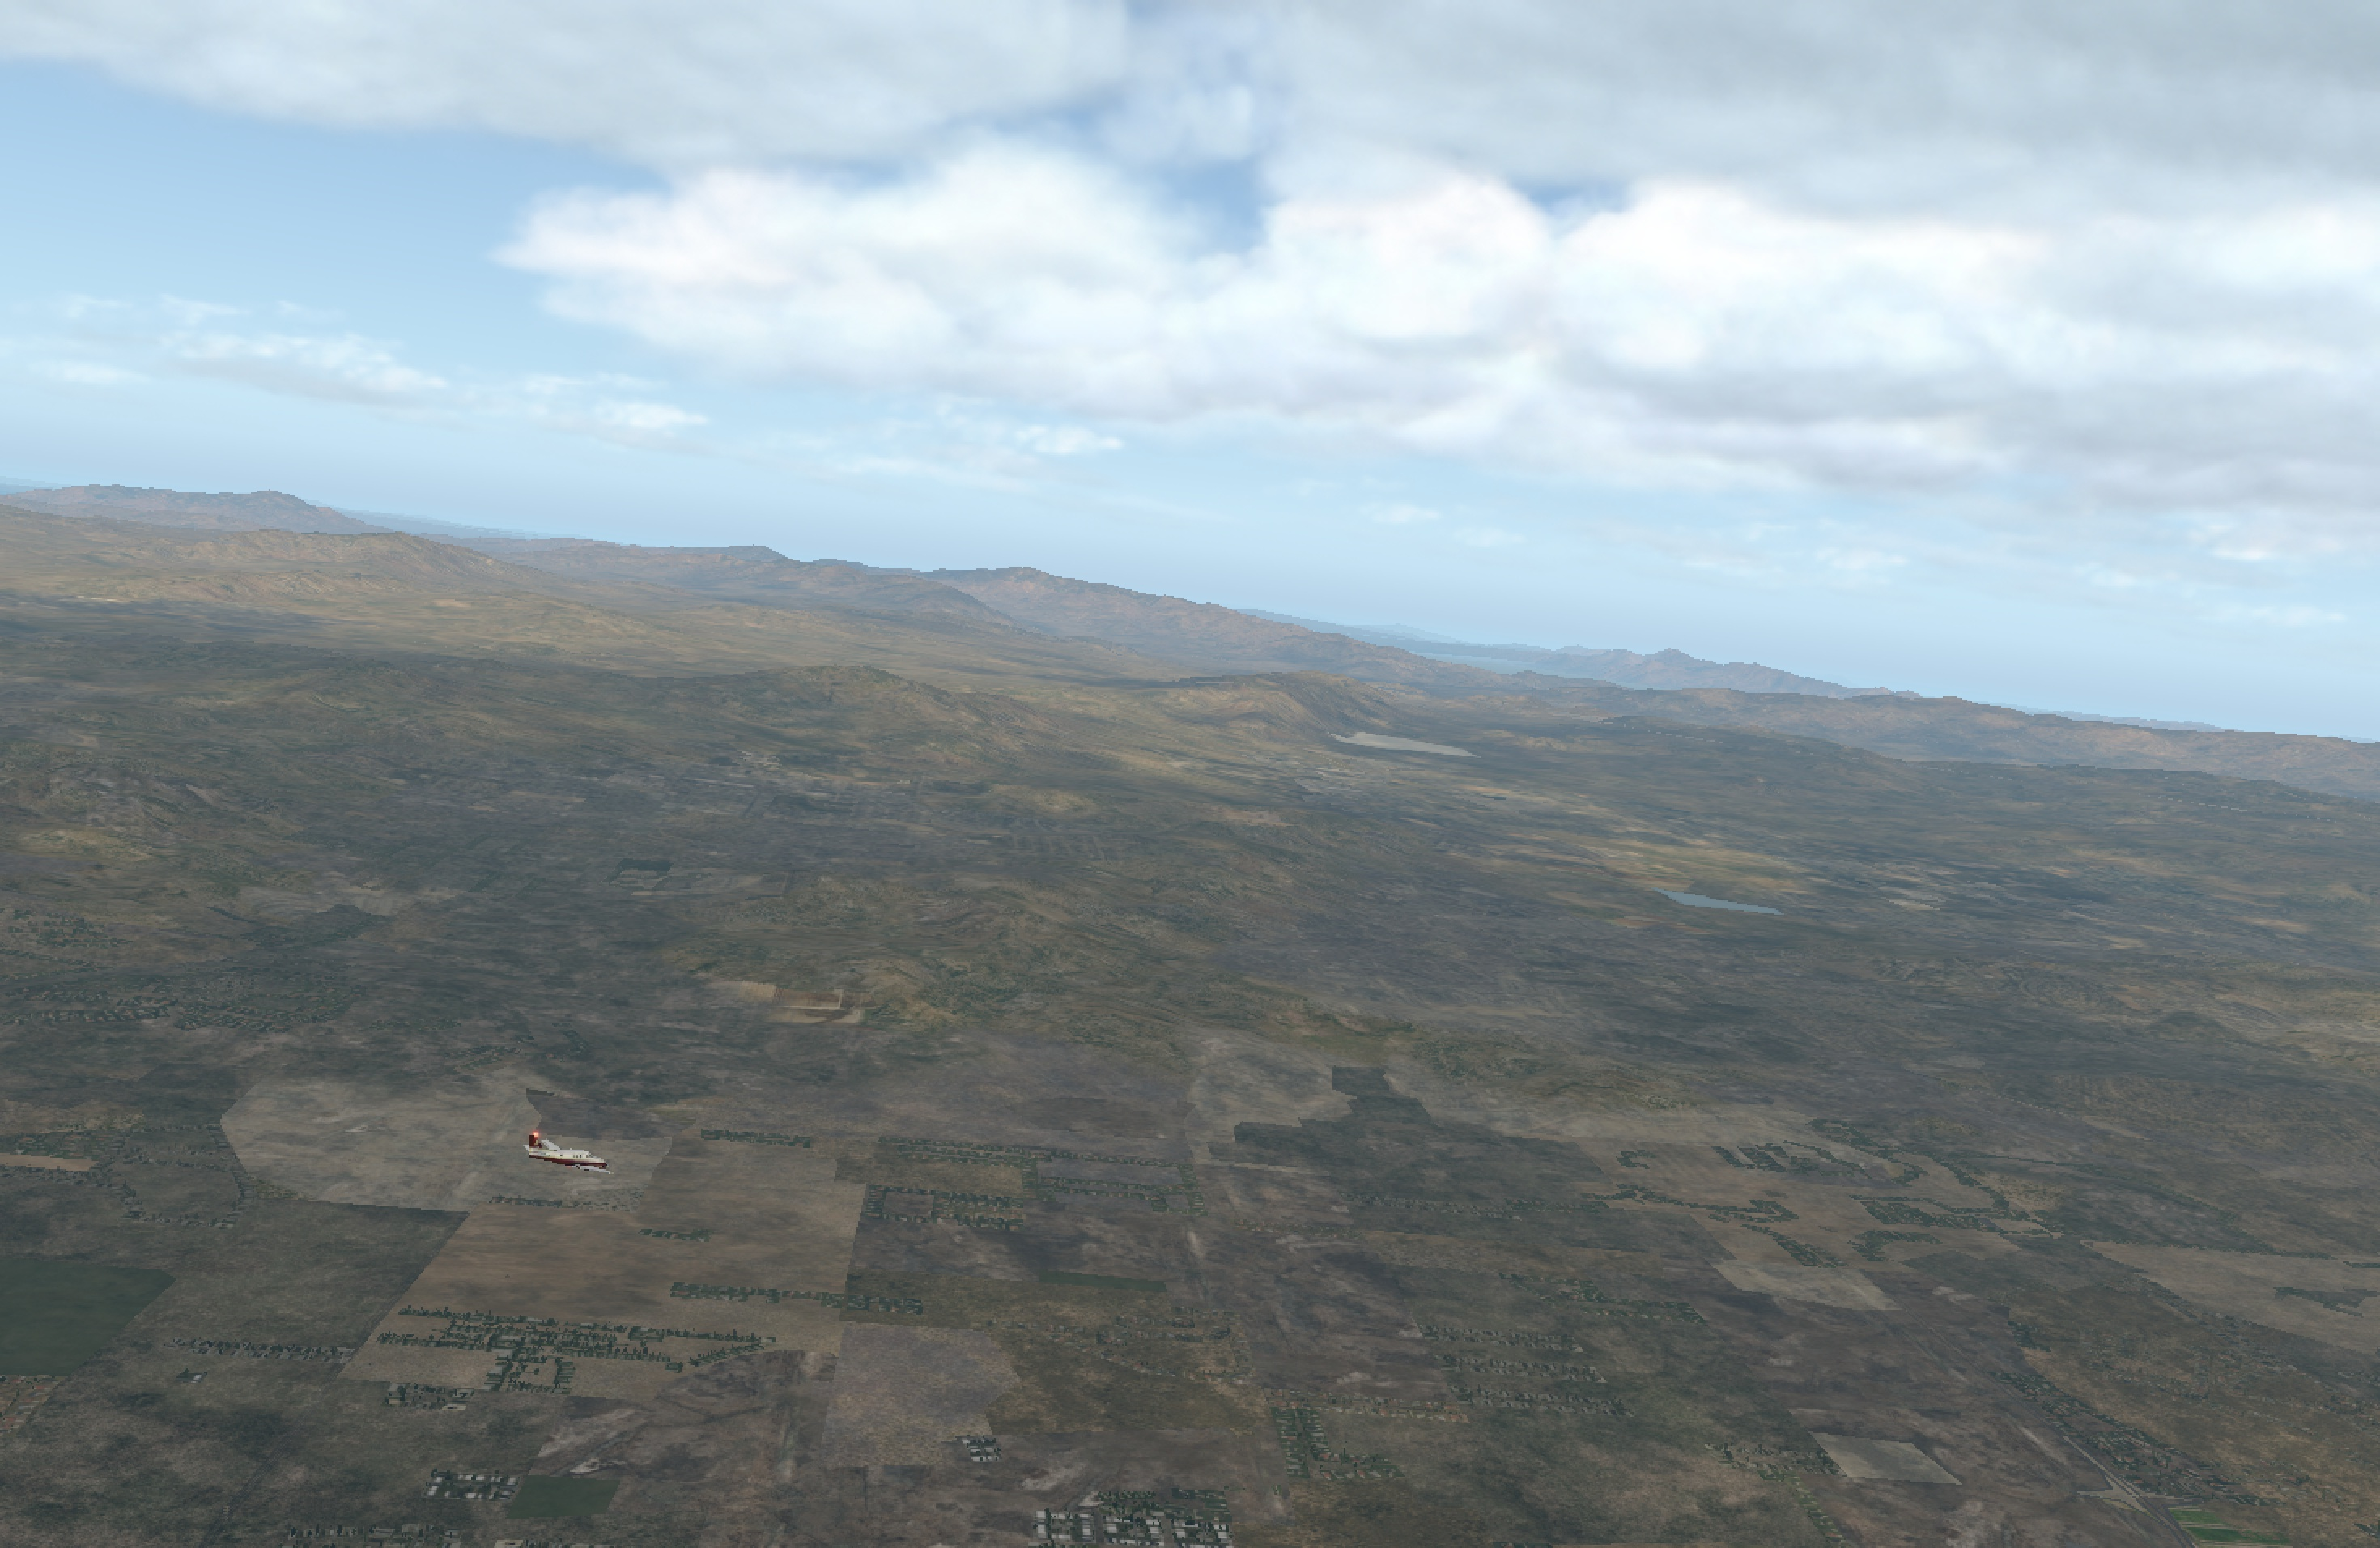aircraft: (515, 1140, 642, 1189)
